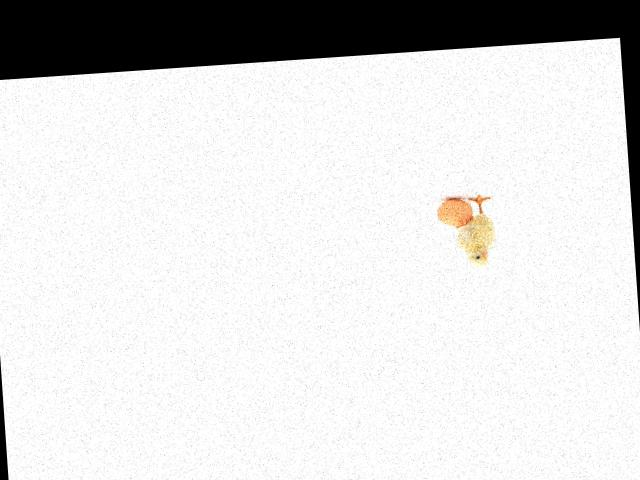egg: (436, 197, 475, 228)
